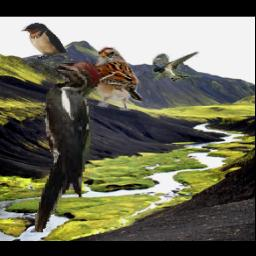Sparrow: (91, 47, 143, 111)
Swallow: (22, 23, 69, 60), (152, 52, 202, 82)
Woodpecker: (36, 60, 101, 232)
